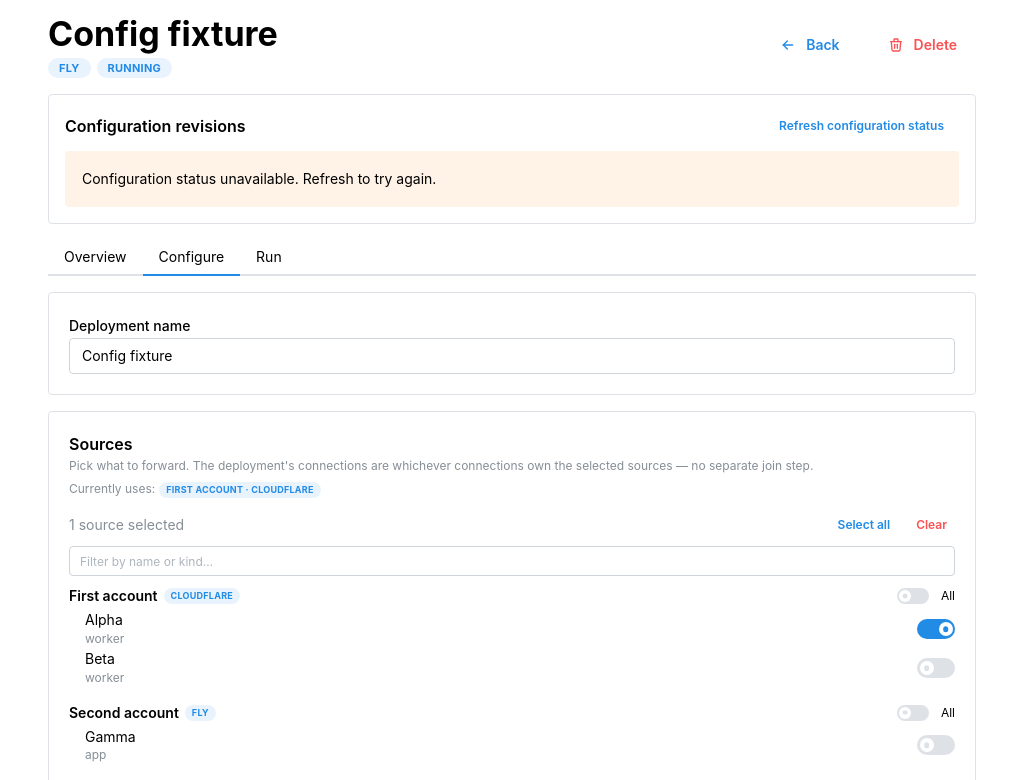
Scenario: disables bulk actions when the filter matches no sources
Expected: the switch named "Alpha" is shown, [917,619,955,639]
Type "absent" into the field named "Filter sources". click: (512, 561)
box: [69,546,955,576]
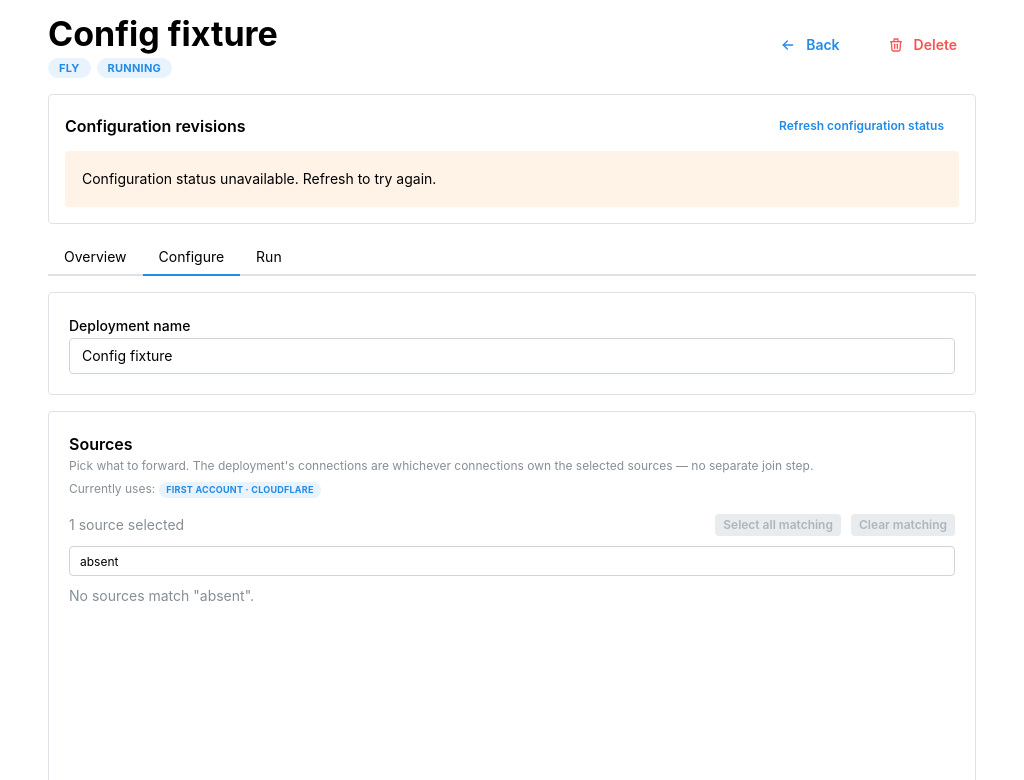
Now the text "No sources match \"absent\"." is shown, box [69,587,254,604]
Now the button "Select all matching" is disabled, box [715,514,841,536]
Now the button "Clear matching" is disabled, box [851,514,955,536]
